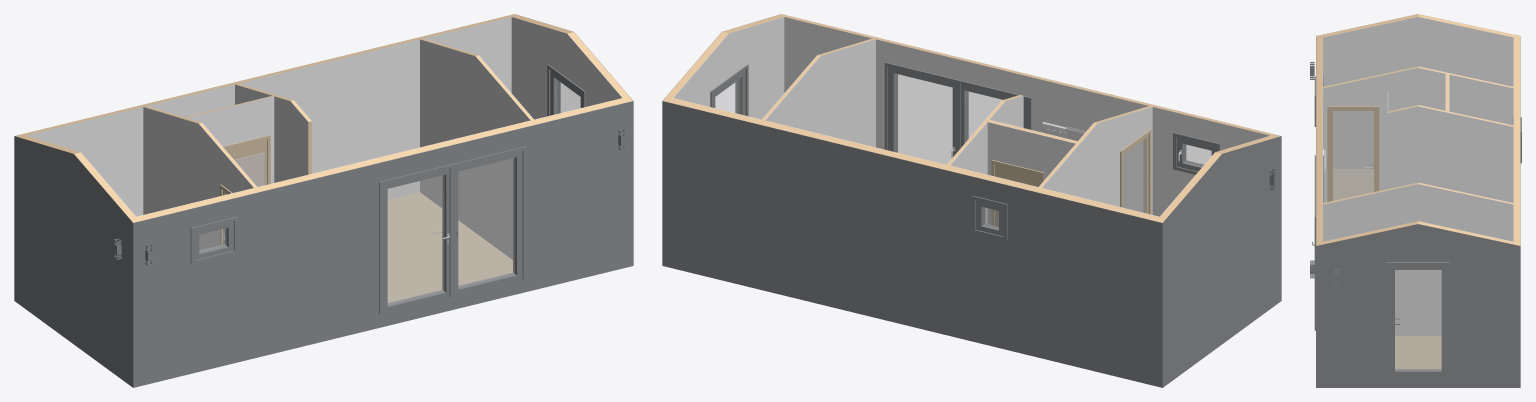
File: Pirtis_(3,5x8,5)_R00.fbx
3 renders of one model, left to right at view 1: azimuth 30°, elevation 25°; view 2: azimuth 150°, elevation 25°; view 3: azimuth 270°, elevation 25°, orthographic. The views are drawn at different scales.
Parts seen in each view (by area): view 1: IfcWall/Part:2319977, IfcWall/Part:2397154, IfcWall/Part:2368366, IfcWall/Part:2642272, IfcWindow/Langai (Akrusta):1200x2100x120 (kairinis):2632484, IfcDoor/Durys išorinės:1200x2100x120 (kairinės):2439432, IfcSlab/Part:2319985, IfcWall/Part:2635882, IfcWall/Part:2397151, IfcWall/Part:2319978, IfcWall/Part:2642587, IfcWall/Part:2636866 (+7 smaller); view 2: IfcWall/Part:2397155, IfcWall/Part:2368366, IfcWall/Part:2319976, IfcWall/Part:2642272, IfcWindow/Langai (Akrusta):1200x2100x120 (kairinis):2632484, IfcWall/Part:2397151, IfcWall/Part:2635882, IfcWall/Part:2642588, IfcWall/Part:2397156, IfcDoor/Durys vidinės:800x2100 x 120 (dešininės) stiklines:2, IfcDoor/Durys išorinės:1200x2100x120 (kairinės):2439432, IfcWindow/Langai (Akrusta):700x500x120 (atverciamas):2623467 (+8 smaller); view 3: IfcWall/Part:2397152, IfcWall/Part:2368365, IfcWall/Part:2642271, IfcWall/Part:2636865, IfcDoor/Durys išorinės:1000x2100x120 (dešininės):2669020, IfcWall/Part:2635881, IfcDoor/Durys vidinės:800x2100 x 120 (dešininės) stiklines:2, IfcSlab/Part:2319985, IfcWall/Part:2637351, IfcWall/Part:2397156, IfcWall/Part:2319978, IfcWall/Part:2397153 (+9 smaller).
Part boxes in pixels (x1,y1,x2,y2): IfcWall/Part:2319977: (133, 101, 633, 387); IfcWall/Part:2397154: (26, 17, 511, 216); IfcWall/Part:2368366: (14, 136, 132, 387); IfcWall/Part:2642272: (420, 39, 530, 259); IfcWindow/Langai (Akrusta):1200x2100x120 (kairinis):2632484: (449, 146, 526, 297); IfcDoor/Durys išorinės:1200x2100x120 (kairinės):2439432: (379, 163, 455, 314); IfcSlab/Part:2319985: (387, 192, 512, 302); IfcWall/Part:2635882: (143, 107, 253, 250); IfcWall/Part:2397151: (511, 17, 622, 119); IfcWall/Part:2319978: (130, 98, 626, 222); IfcWall/Part:2642587: (186, 96, 274, 183); IfcWall/Part:2636866: (274, 96, 308, 182); IfcWall/Part:2397155: (662, 101, 1162, 387); IfcWall/Part:2368366: (1163, 136, 1281, 387); IfcWall/Part:2319976: (784, 17, 1269, 216); IfcWall/Part:2642272: (765, 39, 875, 147); IfcWindow/Langai (Akrusta):1200x2100x120 (kairinis):2632484: (884, 62, 960, 164); IfcWall/Part:2397151: (673, 17, 784, 119); IfcWall/Part:2635882: (1042, 107, 1152, 214); IfcWall/Part:2642588: (987, 122, 1075, 224); IfcWall/Part:2397156: (663, 96, 1165, 222); IfcDoor/Durys vidinės:800x2100 x 120 (dešininės) stiklines:2: (1120, 129, 1151, 214); IfcDoor/Durys išorinės:1200x2100x120 (kairinės):2439432: (955, 79, 1031, 153); IfcWindow/Langai (Akrusta):700x500x120 (atverciamas):2623467: (1173, 132, 1220, 174); IfcWall/Part:2397152: (1316, 224, 1520, 387); IfcWall/Part:2368365: (1323, 17, 1513, 168); IfcWall/Part:2642271: (1323, 184, 1513, 335); IfcWall/Part:2636865: (1387, 106, 1513, 202); IfcDoor/Durys išorinės:1000x2100x120 (dešininės):2669020: (1386, 262, 1450, 376); IfcWall/Part:2635881: (1323, 67, 1445, 202); IfcDoor/Durys vidinės:800x2100 x 120 (dešininės) stiklines:2: (1327, 106, 1379, 201); IfcSlab/Part:2319985: (1333, 169, 1441, 368); IfcWall/Part:2637351: (1449, 74, 1513, 125); IfcWall/Part:2397156: (1514, 34, 1520, 245); IfcWall/Part:2319978: (1316, 34, 1322, 242); IfcWall/Part:2397153: (1316, 221, 1513, 245).
Size of the model in its own units: 870 by 309 by 362.
